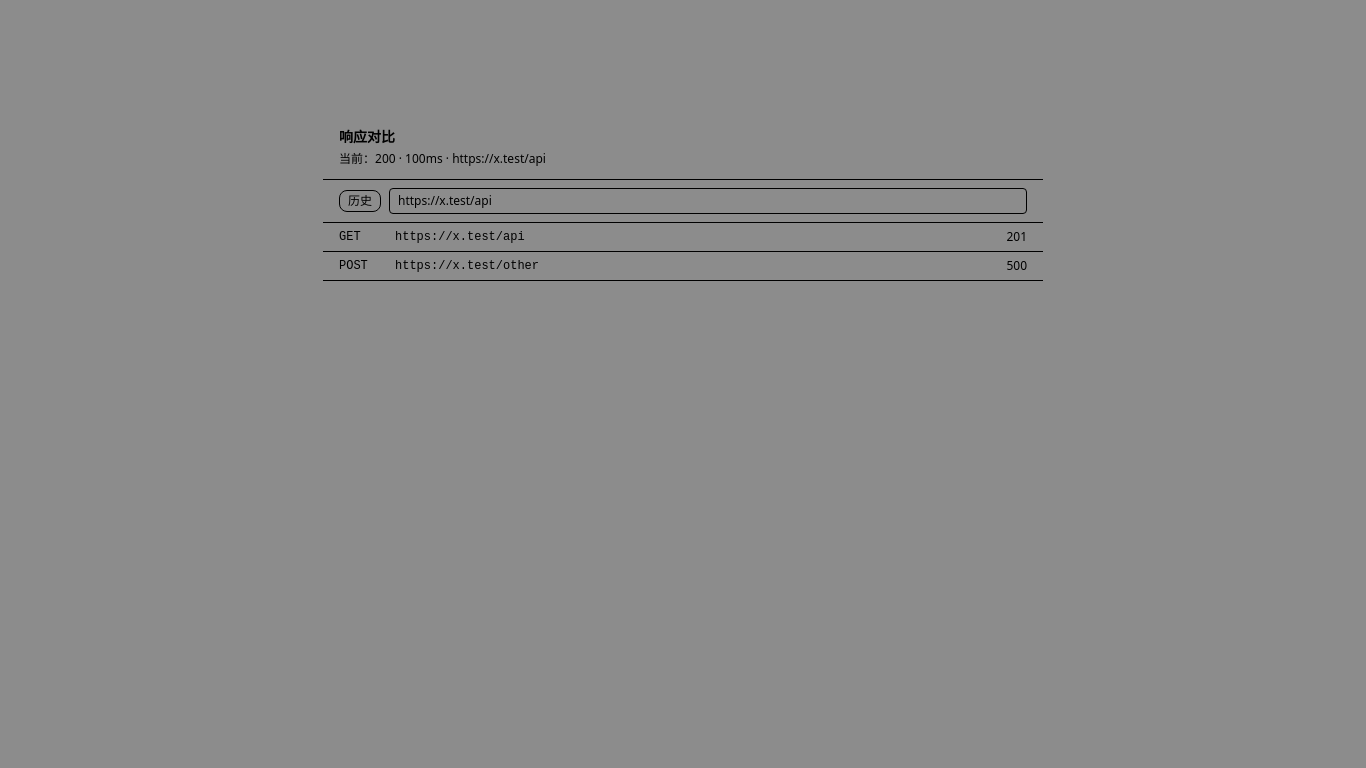
it: ResponseDiffDialog › checks the raw body limit before JSON normalization
Click the text "https://x.test/api" at (460, 237), box [395, 230, 525, 244]
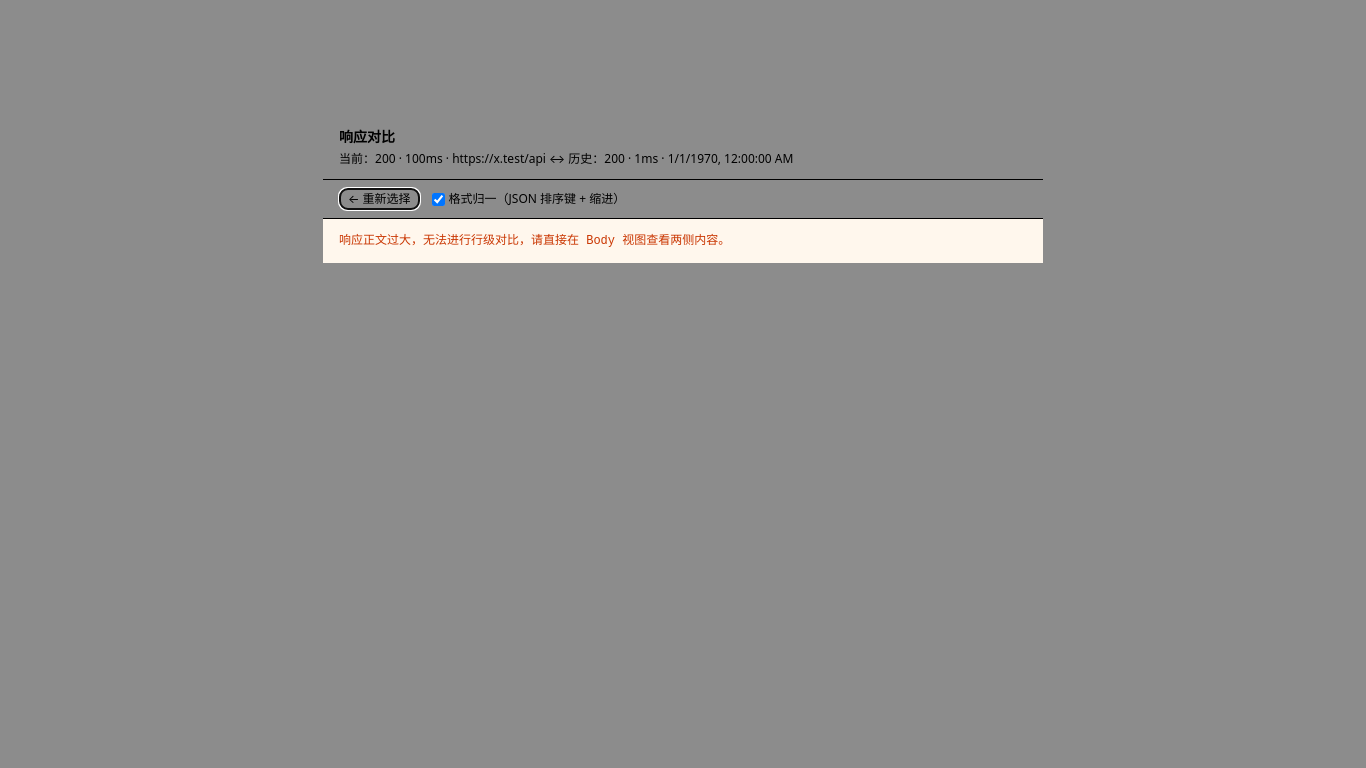
Check: the text "响应正文过大，无法进行行级对比，请直接在 Body 视图查看两侧内容。" is shown, box [323, 219, 1043, 263]
